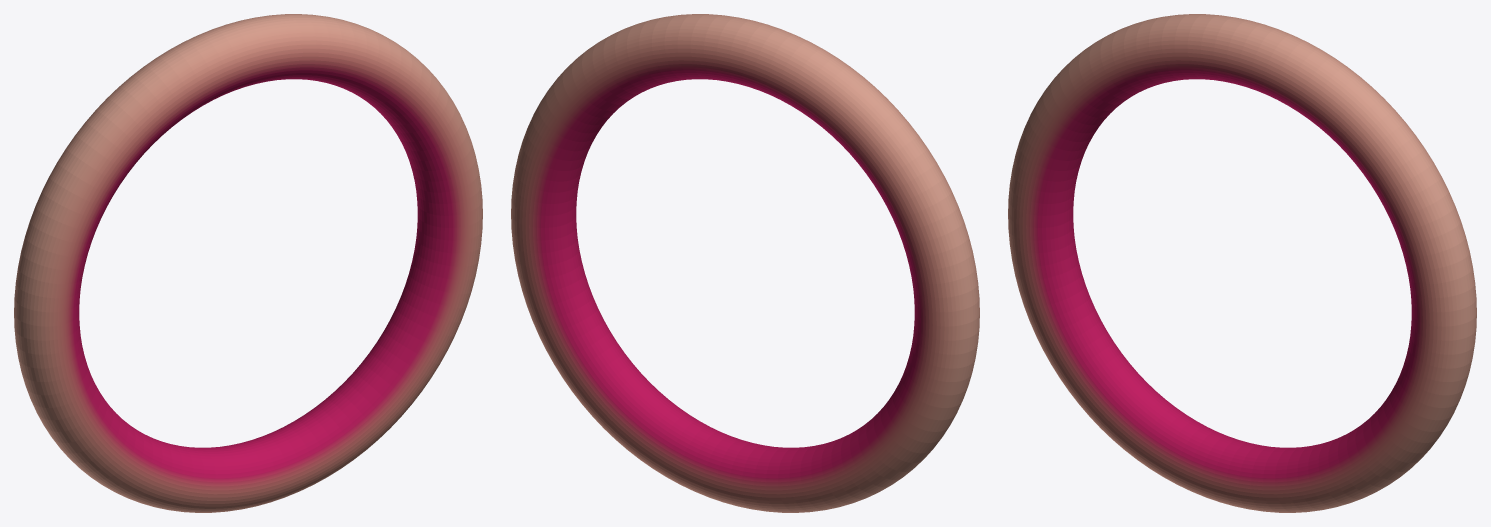
3 views of the same model, side by side, from view 1: azimuth 30°, elevation 25°; view 2: azimuth 150°, elevation 25°; view 3: azimuth 330°, elevation 25° (orthographic).
Parts seen in each view (by area): view 1: world; view 2: world; view 3: world.
Boxes of the visible parts, bbox=[...] form: world: bbox=[14, 14, 482, 512]; world: bbox=[511, 14, 979, 512]; world: bbox=[1008, 14, 1476, 512].
Size of the model in its own units: 22.8 by 22.8 by 2.79.
